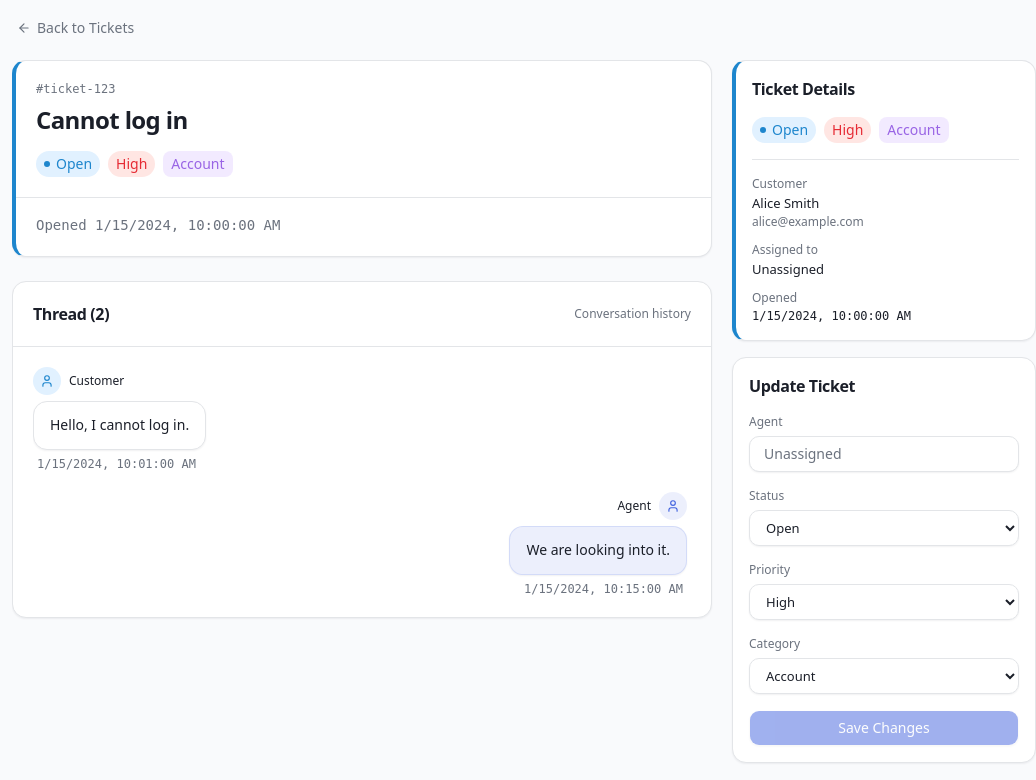
it: TicketDetail page › Save Changes becomes enabled after changing the priority
Expected: the heading "Cannot log in" is shown, top-left (36, 103), bottom-right (188, 136)
Step 1. Select "Low" in the dropdown labelled "Priority" → (884, 602), box top-left (749, 584), bottom-right (1019, 620)
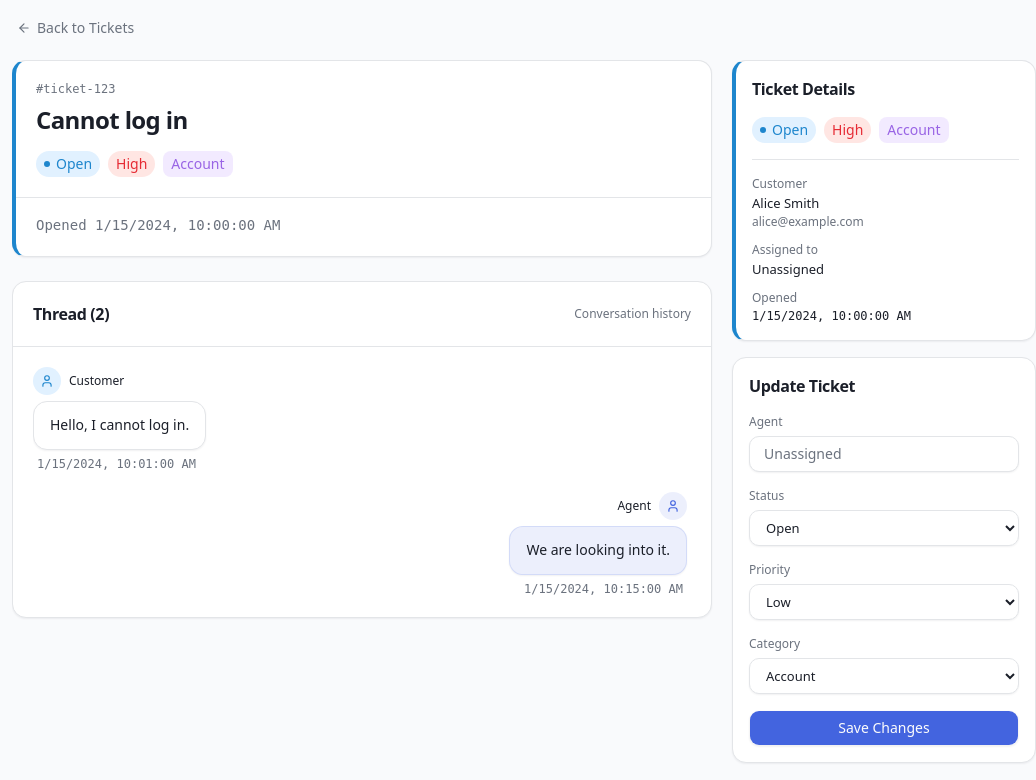
Now the button "Save Changes" is enabled, box top-left (749, 710), bottom-right (1019, 746)
